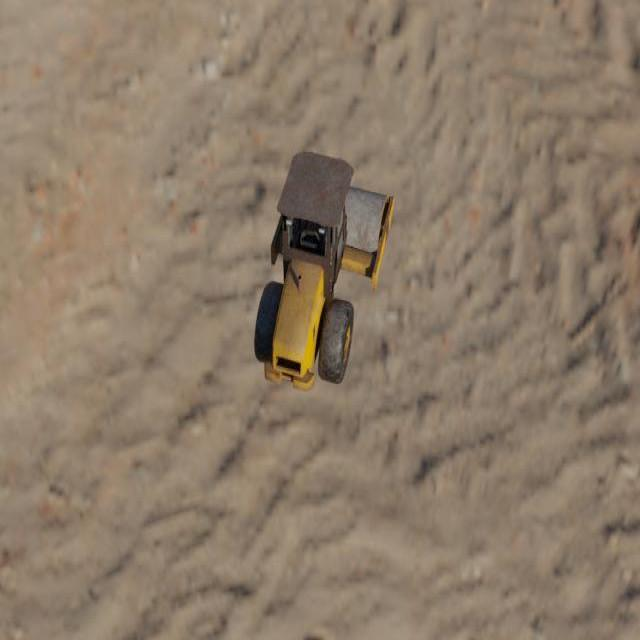Roller: (253, 151, 394, 392)
